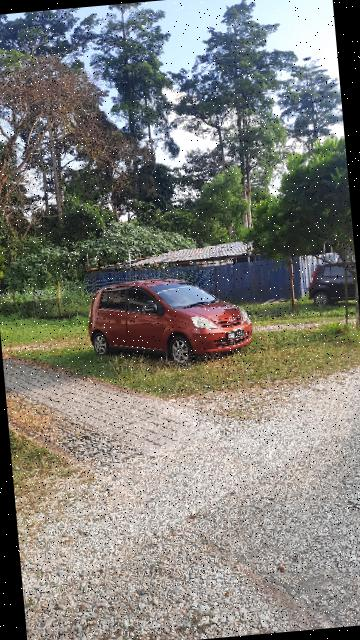License_Plate: (226, 328, 250, 342)
car: (84, 272, 259, 371)
